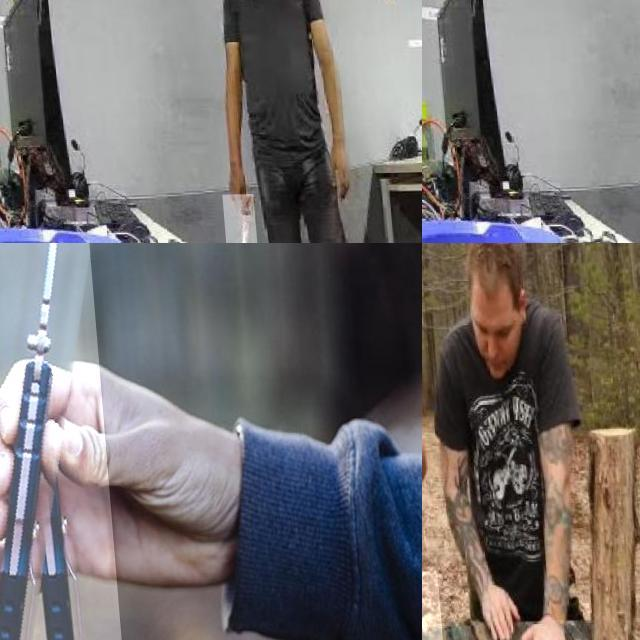-: (0, 243, 116, 640), (422, 572, 476, 640), (213, 195, 249, 243)
